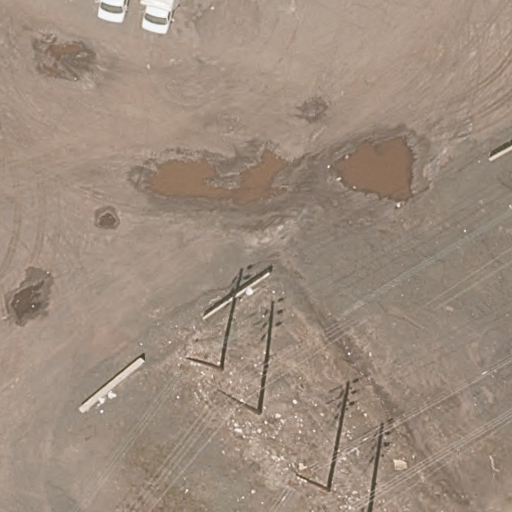DT: (282, 465, 329, 491), (179, 353, 222, 373), (213, 387, 244, 409)
